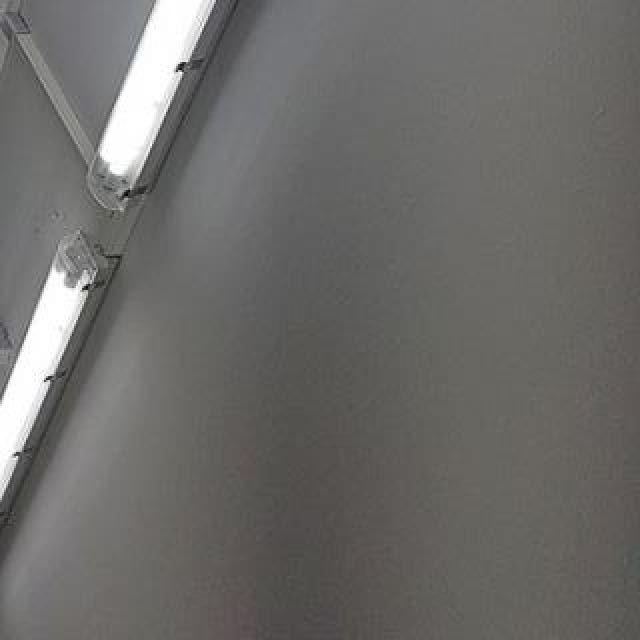fluorescent tube: (76, 0, 514, 228), (0, 200, 160, 598), (0, 570, 10, 640), (0, 0, 6, 72)
